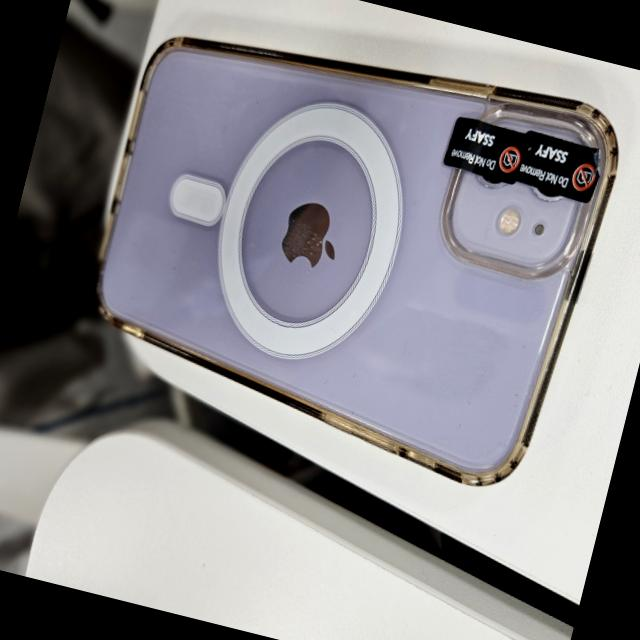phone: (51, 0, 626, 508)
sticker: (509, 125, 608, 208), (440, 106, 530, 184)
